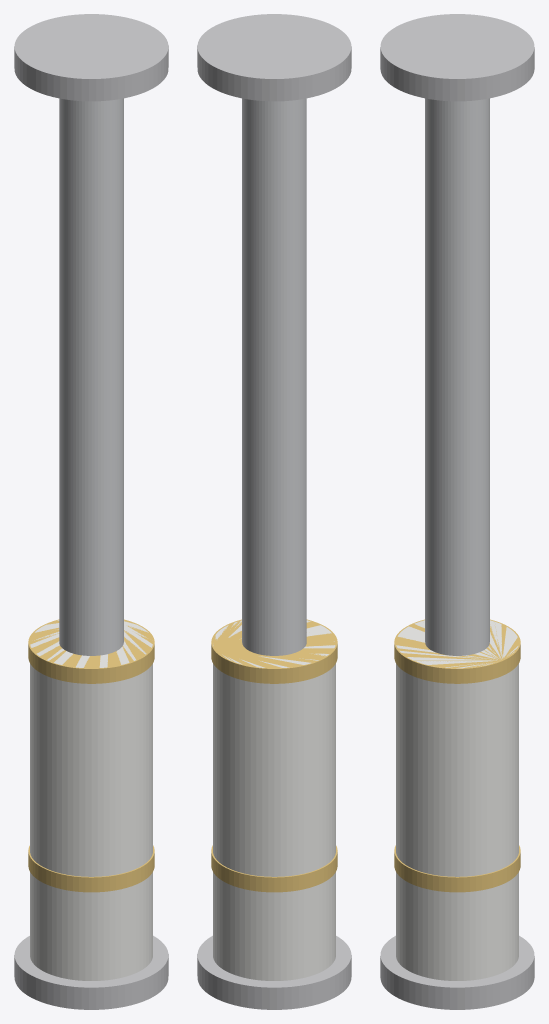
The model's file is robo02_piston_s_extended.glb.
3 renders of one model, left to right at view 1: azimuth 30°, elevation 25°; view 2: azimuth 150°, elevation 25°; view 3: azimuth 270°, elevation 25°, orthographic.
Visible parts, largest first — view 1: barrel, rod, rod_plate, barrel_bands, base_plate; view 2: rod, barrel, rod_plate, barrel_bands, base_plate; view 3: barrel, rod, rod_plate, barrel_bands, base_plate.
Part boxes in pixels (x1,y1,x2,y2): barrel: [30, 620, 152, 980]; rod: [59, 98, 123, 655]; rod_plate: [14, 14, 168, 101]; barrel_bands: [28, 619, 154, 892]; base_plate: [14, 935, 168, 1009]; rod: [242, 98, 306, 655]; barrel: [213, 620, 335, 980]; rod_plate: [197, 14, 351, 101]; barrel_bands: [211, 619, 337, 892]; base_plate: [197, 935, 351, 1009]; barrel: [396, 620, 518, 980]; rod: [425, 98, 489, 655]; rod_plate: [380, 14, 534, 101]; barrel_bands: [394, 619, 520, 892]; base_plate: [380, 935, 534, 1009].
Size of the model in its own units: 0.2998 by 2 by 0.2999.
